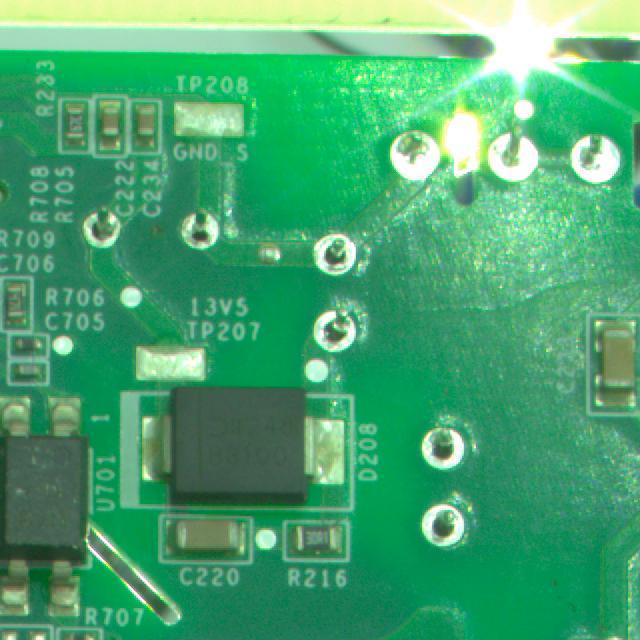Insufficient solder: (416, 422, 487, 478), (413, 495, 476, 553), (310, 228, 357, 283), (178, 207, 225, 261), (312, 308, 364, 353), (83, 207, 126, 255)
